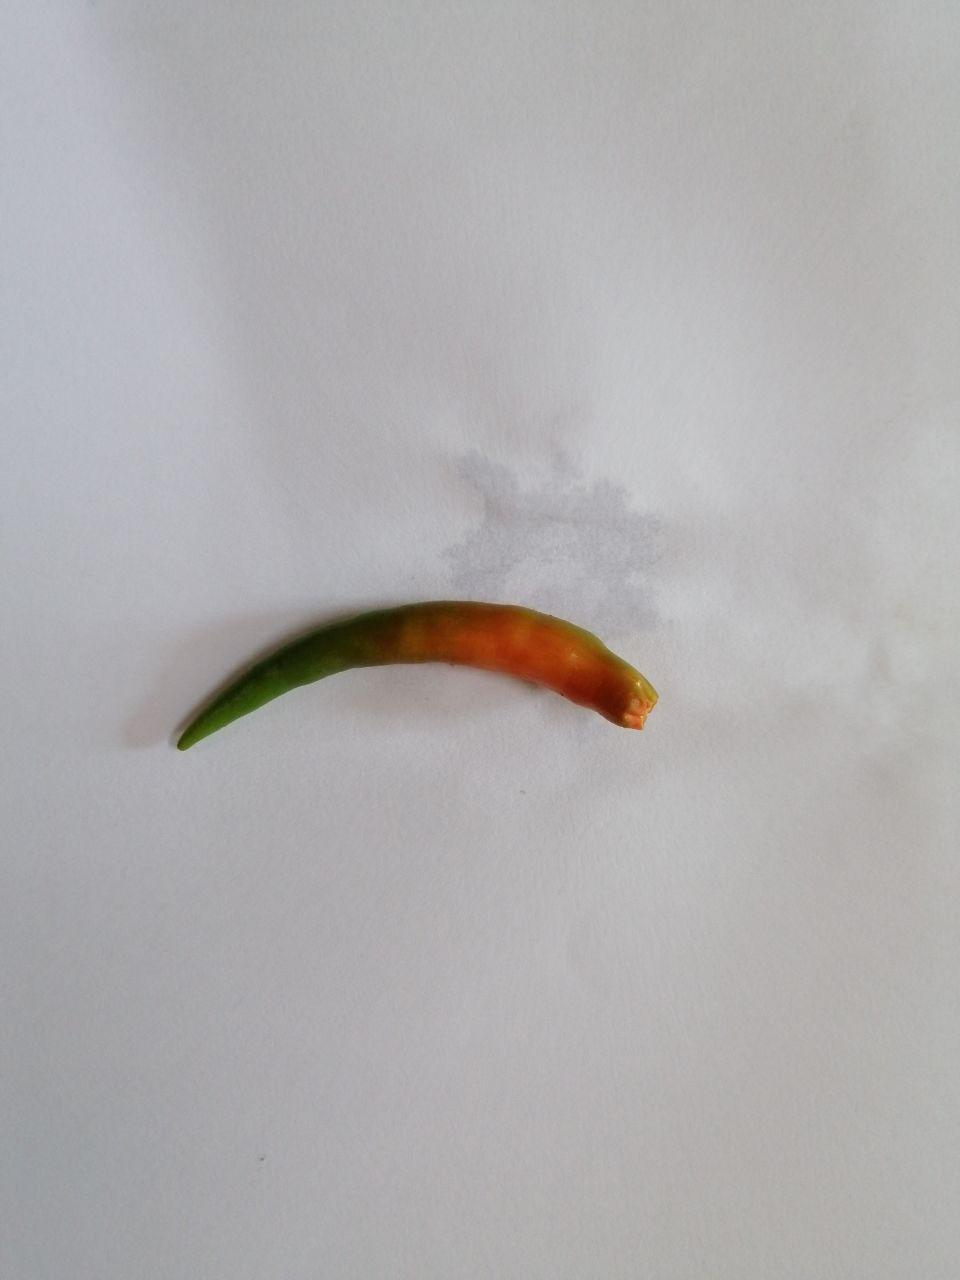lada kuning: (167, 590, 673, 763)
